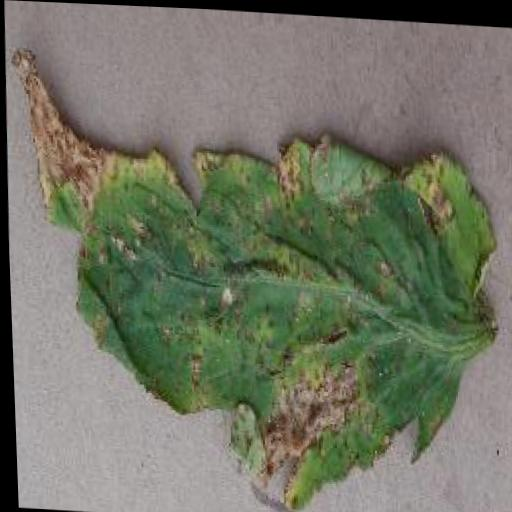Bacterial Spot: (1, 41, 509, 512)
